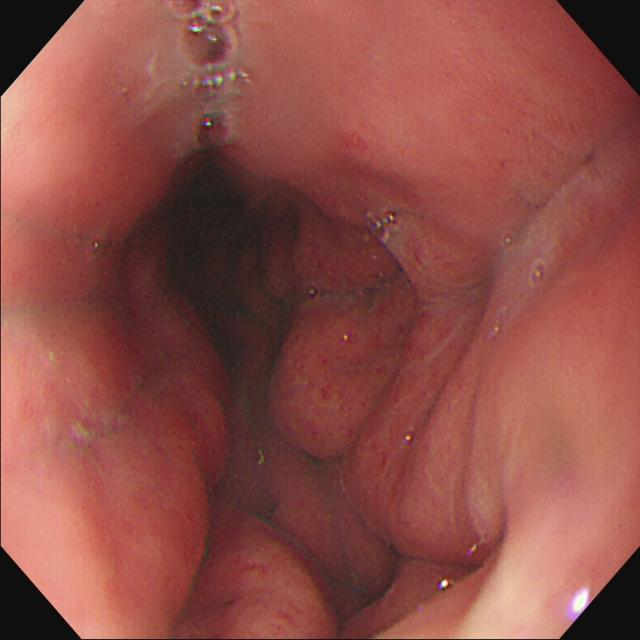A: (353, 365, 498, 556), (254, 299, 412, 460), (205, 507, 340, 640), (265, 211, 395, 296)
E: (175, 177, 254, 281)
T: (168, 2, 238, 150)
